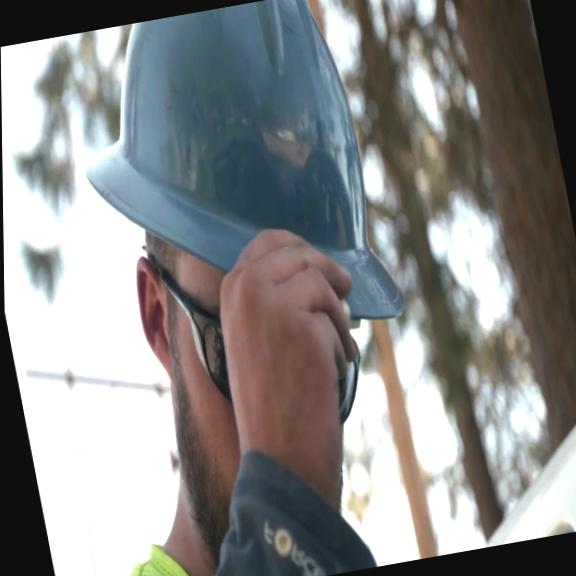safety_vest: (52, 538, 216, 576)
